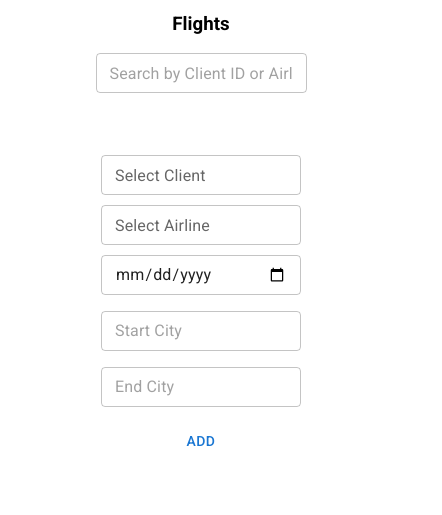
it: Flights Component › search filters flights correctly
The image size is (442, 515).
Type "202" into the field with placeholder "Search by Client ID or Airline ID".
click(201, 73); type("202")  # box [96,53,306,93]
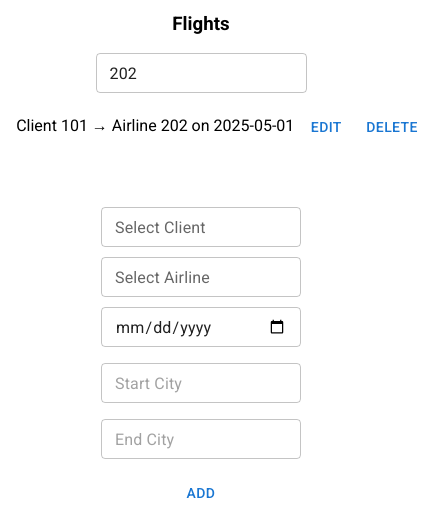
Check: the list item "Client 101 → Airline 202 on 2025-05-01" is shown, box [16,109,426,146]
Replace the text in the field with placeholder "Search by Client ID or Airline ID" with "303" at [201, 73], box [96,53,306,93]
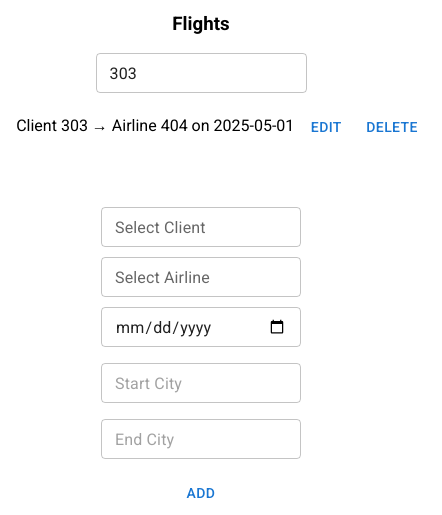
Check: the list item "Client 303 → Airline 404 on 2025-05-01" is shown, box [16,109,426,146]
